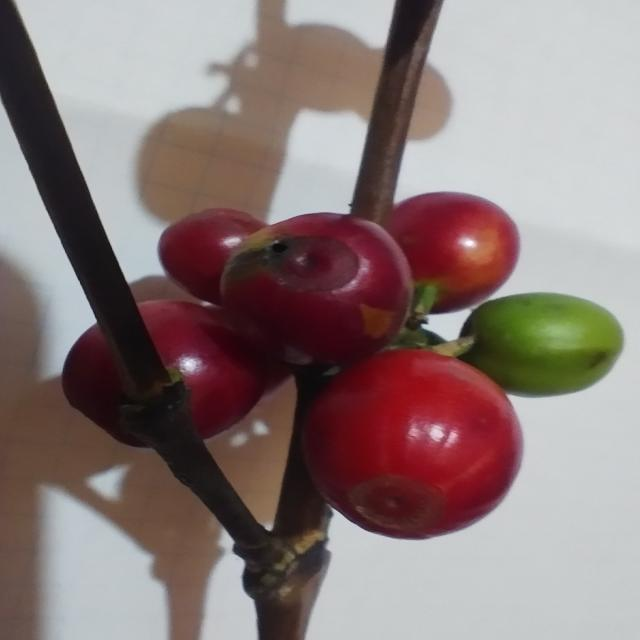Infectado: (222, 215, 413, 366)
Sano: (299, 356, 525, 543), (382, 192, 518, 328), (137, 302, 269, 440), (461, 293, 626, 398), (158, 208, 267, 309)
